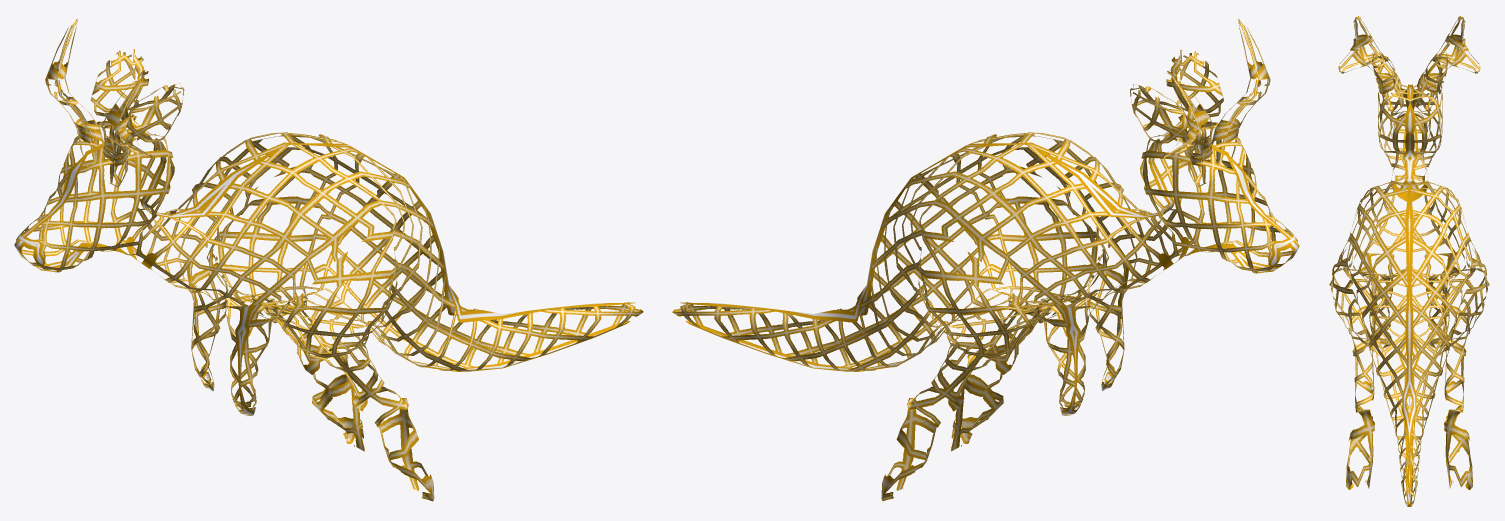
File: FestiveJackarooStatueHand.fbx
The picture shows the model from 3 angles, left to right: view 1: azimuth 30°, elevation 25°; view 2: azimuth 150°, elevation 25°; view 3: azimuth 270°, elevation 25°; orthographic projection. The views are drawn at different scales.
Visible parts, largest first — view 1: BunyipStatue (2); view 2: BunyipStatue (2); view 3: BunyipStatue (2).
Part boxes in pixels (x1,y1,x2,y2): BunyipStatue (2): (14, 19, 643, 501); BunyipStatue (2): (672, 19, 1299, 501); BunyipStatue (2): (1329, 16, 1489, 506).
Size of the model in its own units: 1.54 by 1.2 by 0.4621.
